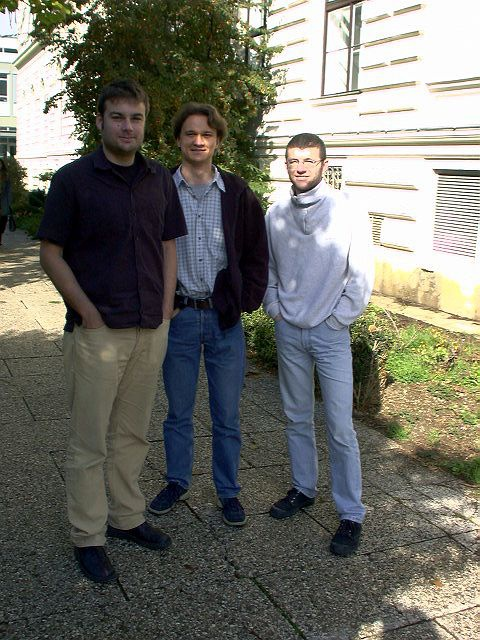person: (42, 79, 178, 578), (266, 133, 373, 557), (150, 103, 253, 526)
